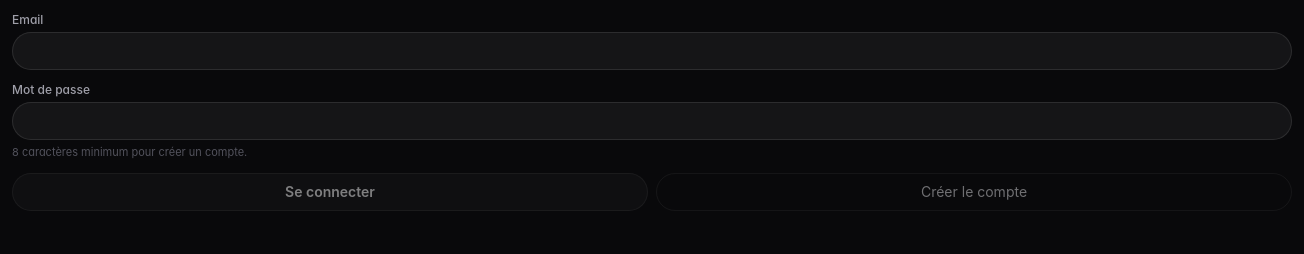
Test: DevLoginForm › shows the server's rejection and does not navigate
Type "dev@local.test" into the field labelled "Email" at (652, 51), box [12,32,1292,70]
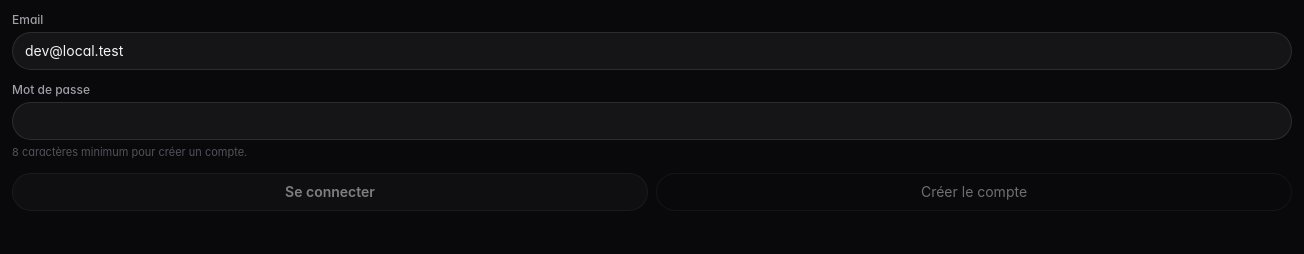
Type "motdepasse-123" into the password field labelled "Mot de passe" at (652, 121), box [12,102,1292,140]
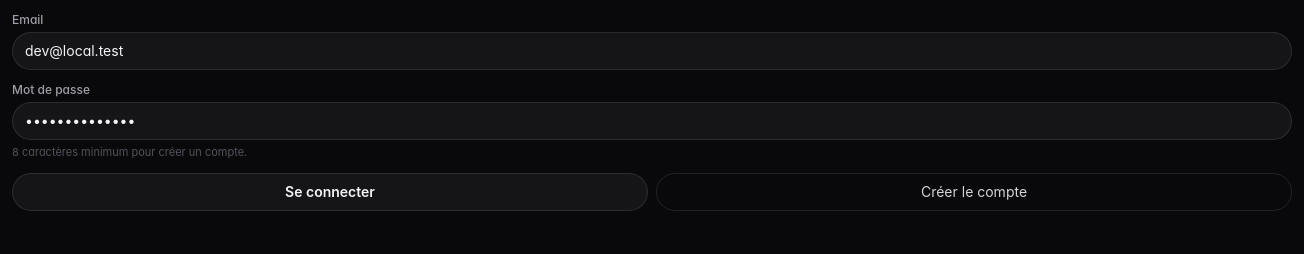
Click the button "Se connecter" at (330, 192), box [12,172,648,210]
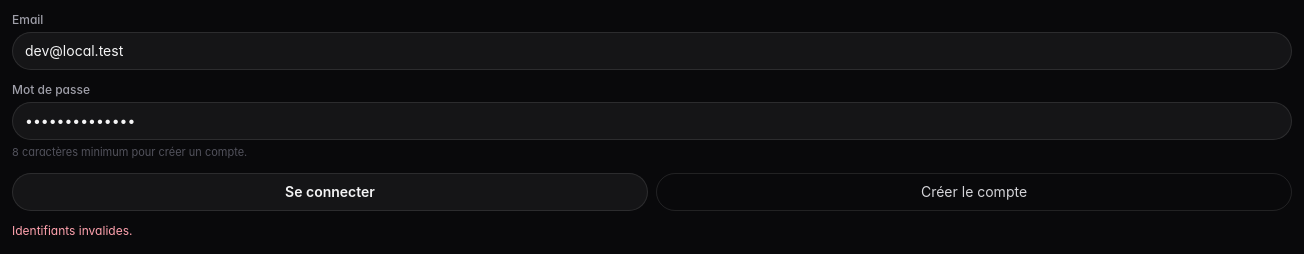
Now the text "Identifiants invalides." is shown, box [12,222,132,238]
